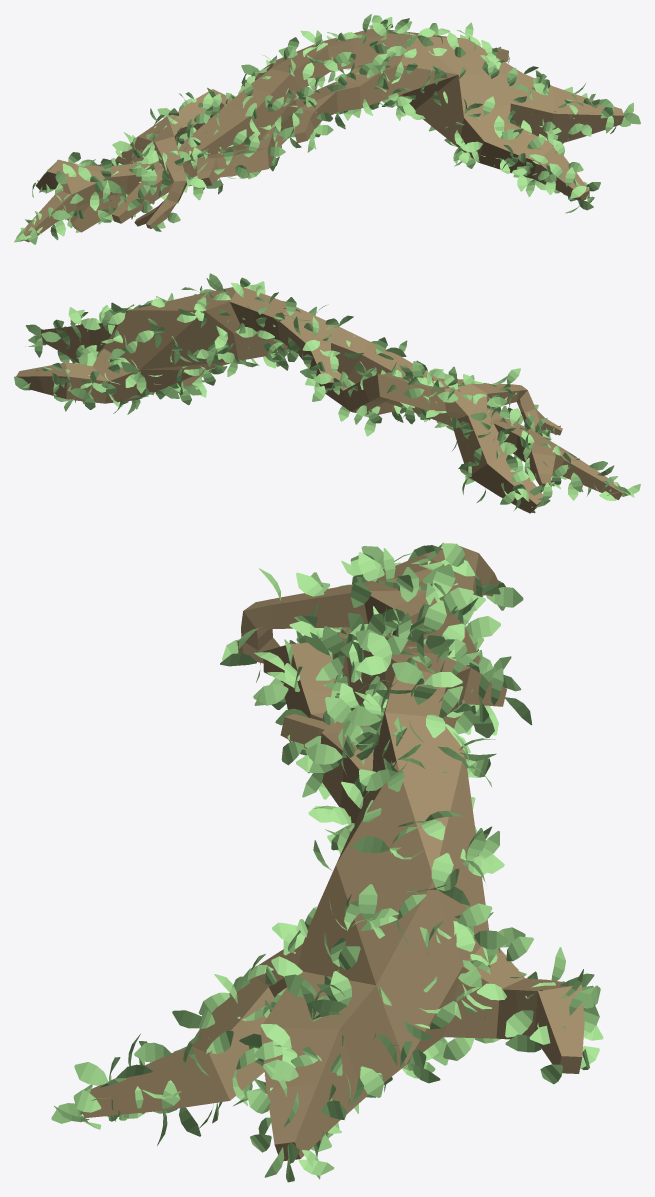
Rendered from bridge10.fbx.
3 views of the same model, one above another, from view 1: azimuth 30°, elevation 25°; view 2: azimuth 150°, elevation 25°; view 3: azimuth 270°, elevation 25° (orthographic). The views are drawn at different scales.
Visible parts, largest first — view 1: tree; view 2: tree; view 3: tree.
Boxes of the visible parts, x1,y1,x2,y2 form: tree: (23,29,624,242); tree: (16,286,623,513); tree: (82,546,584,1161).
Bounding box in the file's own units: 2516 × 672 × 997.
